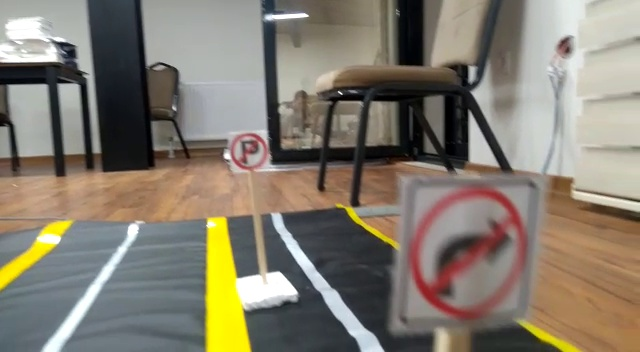park_yapilmaz: (228, 132, 268, 171)
saga_donulmez: (403, 174, 534, 322)
